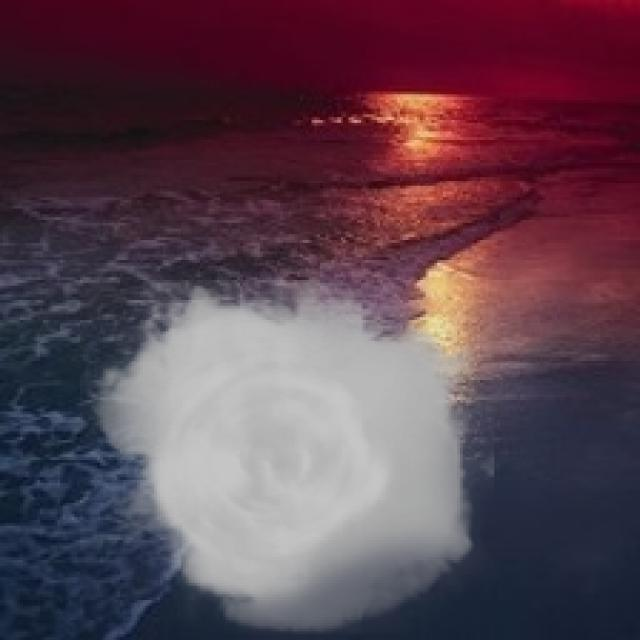smoke: (80, 280, 494, 634)
